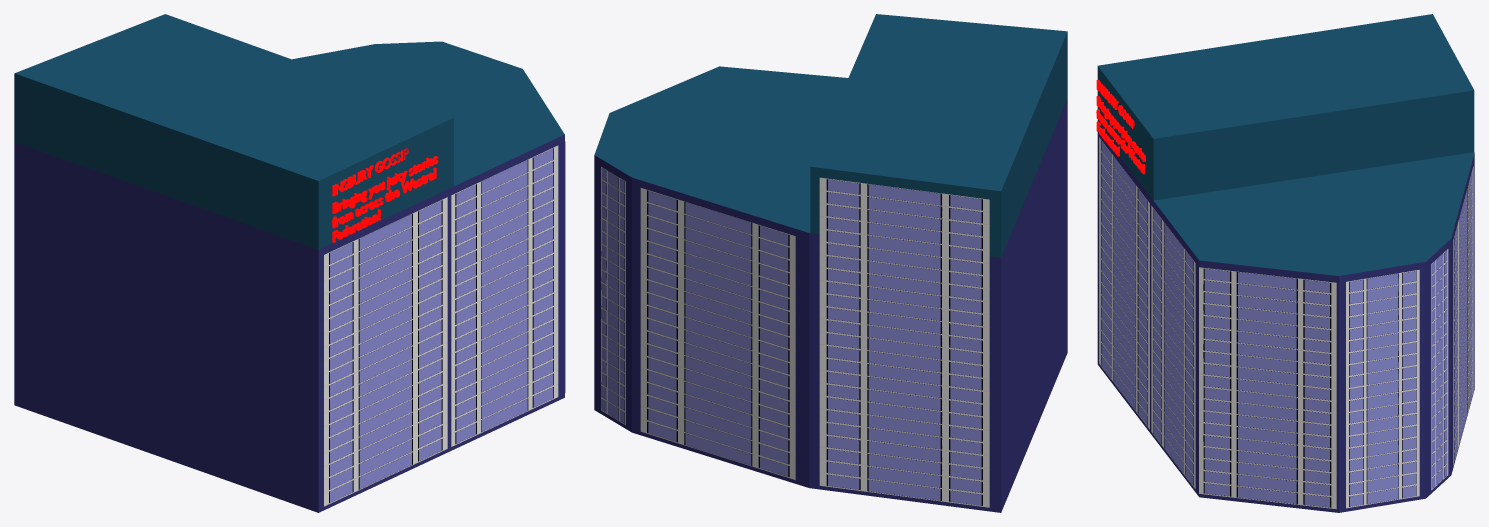
Rendered from InsburyGossipHeadquarters.fbx.
3 renders of one model, left to right at view 1: azimuth 30°, elevation 25°; view 2: azimuth 150°, elevation 25°; view 3: azimuth 270°, elevation 25°, orthographic. The views are drawn at different scales.
Visible parts, largest first — view 1: InsburyGossipHeadquaters, Window, Window.001, Text.001, Text; view 2: InsburyGossipHeadquaters, Window.006, Window.005, Window.004; view 3: InsburyGossipHeadquaters, Window.002, Window.003, Window, Window.001, Window.005, Window.004, Text.001, Text.
Part boxes in pixels (x1=…): InsburyGossipHeadquaters: x1=14, y1=14, x2=564, y2=512; Window: x1=324, y1=197, x2=447, y2=506; Window.001: x1=451, y1=145, x2=558, y2=446; Text.001: x1=331, y1=156, x2=438, y2=242; Text: x1=332, y1=148, x2=408, y2=196; InsburyGossipHeadquaters: x1=594, y1=14, x2=1067, y2=512; Window.006: x1=819, y1=177, x2=989, y2=507; Window.005: x1=640, y1=188, x2=795, y2=480; Window.004: x1=601, y1=167, x2=625, y2=425; InsburyGossipHeadquaters: x1=1097, y1=14, x2=1474, y2=512; Window.002: x1=1199, y1=267, x2=1336, y2=509; Window.003: x1=1346, y1=269, x2=1419, y2=508; Window: x1=1099, y1=137, x2=1149, y2=429; Window.001: x1=1151, y1=205, x2=1195, y2=489; Window.005: x1=1453, y1=166, x2=1473, y2=465; Window.004: x1=1431, y1=249, x2=1448, y2=490; Text.001: x1=1096, y1=95, x2=1145, y2=174; Text: x1=1096, y1=80, x2=1134, y2=128.
Bounding box in the file's own units: 73.52 × 51.1 × 58.67.
